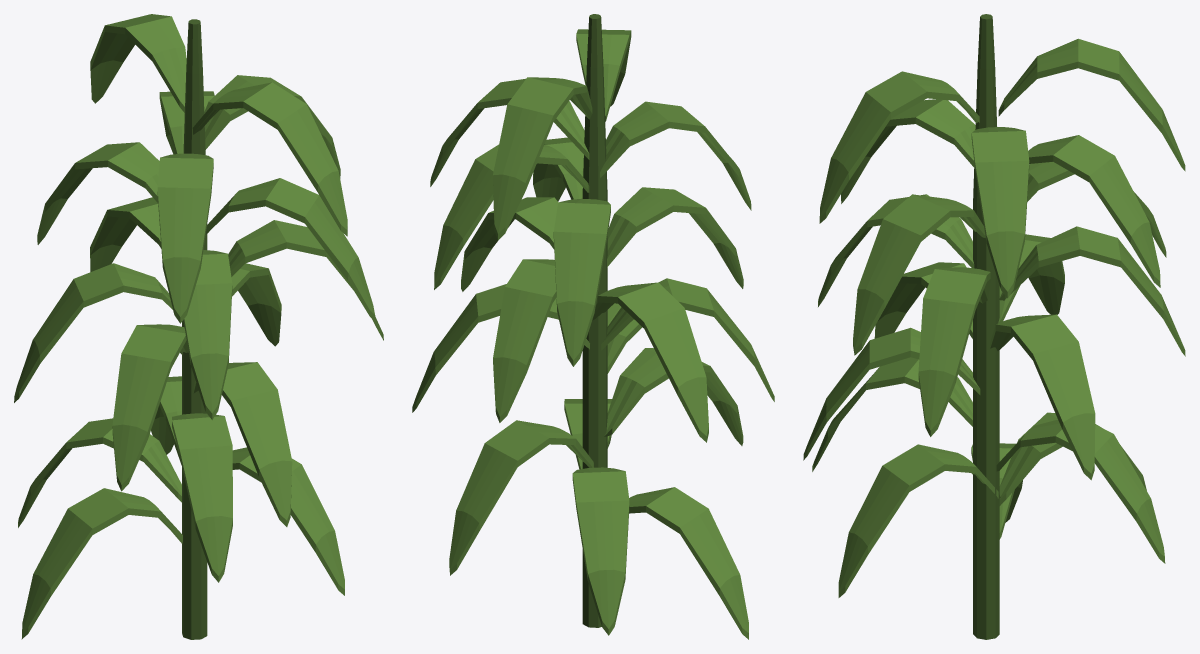
File: plant1.fbx
3 views of the same model, side by side, from view 1: azimuth 30°, elevation 25°; view 2: azimuth 150°, elevation 25°; view 3: azimuth 270°, elevation 25° (orthographic).
Visible parts, largest first — view 1: plant1; view 2: plant1; view 3: plant1.
Part boxes in pixels (x1,y1,x2,y2): plant1: [14, 14, 383, 639]; plant1: [412, 14, 774, 639]; plant1: [803, 14, 1185, 639].
Size of the model in its own units: 222 by 398 by 223.
